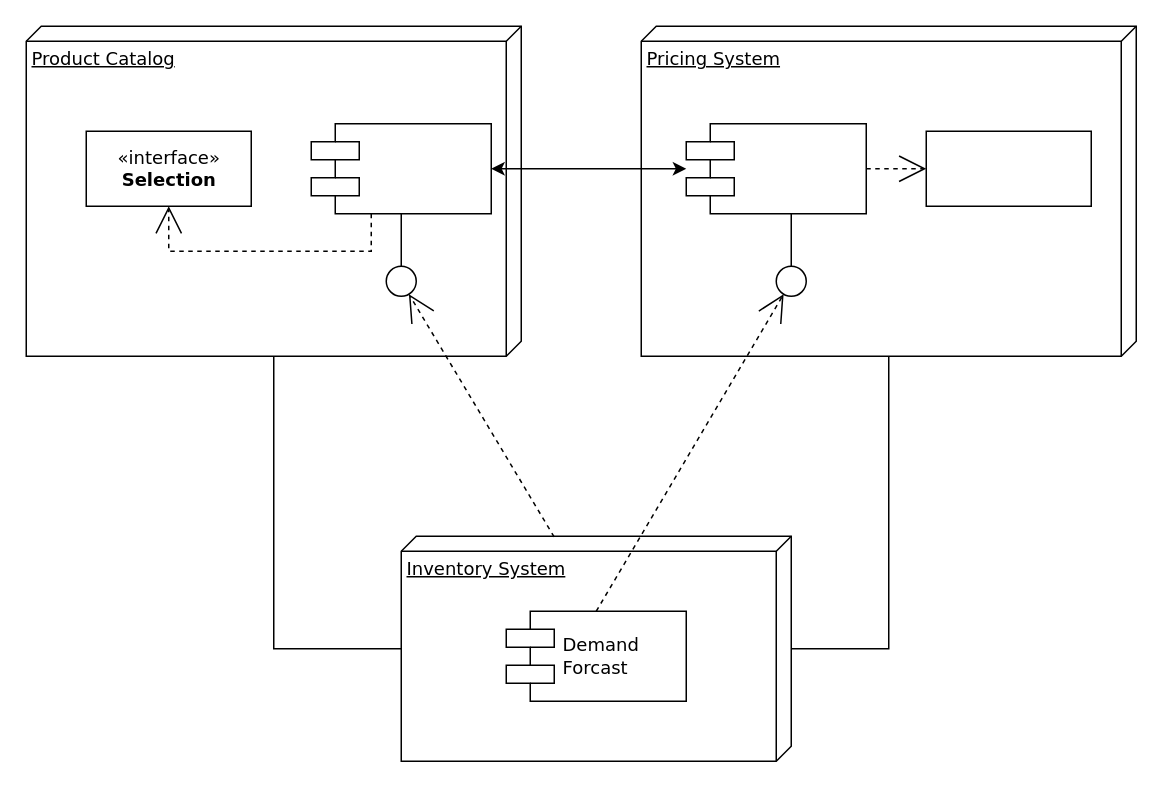
Some shapes in this 1163 by 788 pixel diagram are drawn without their labels. Here are the shapes that lost their labels. From the top down, the centre of each, then its label:
At (400,168): "Product Attributes".
At (775,168): "Marginal Cost".
At (1008,168): "«interface» Promotions".
